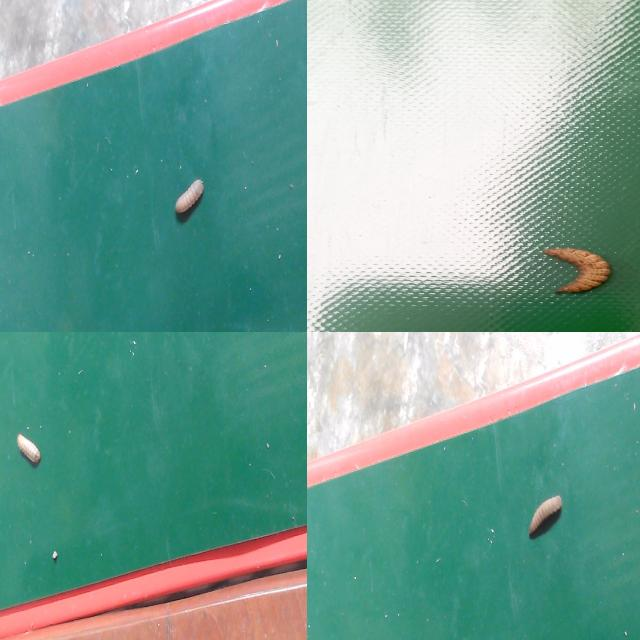Maggot: (546, 248, 614, 295), (526, 495, 564, 541), (173, 180, 206, 225), (14, 434, 42, 469)
